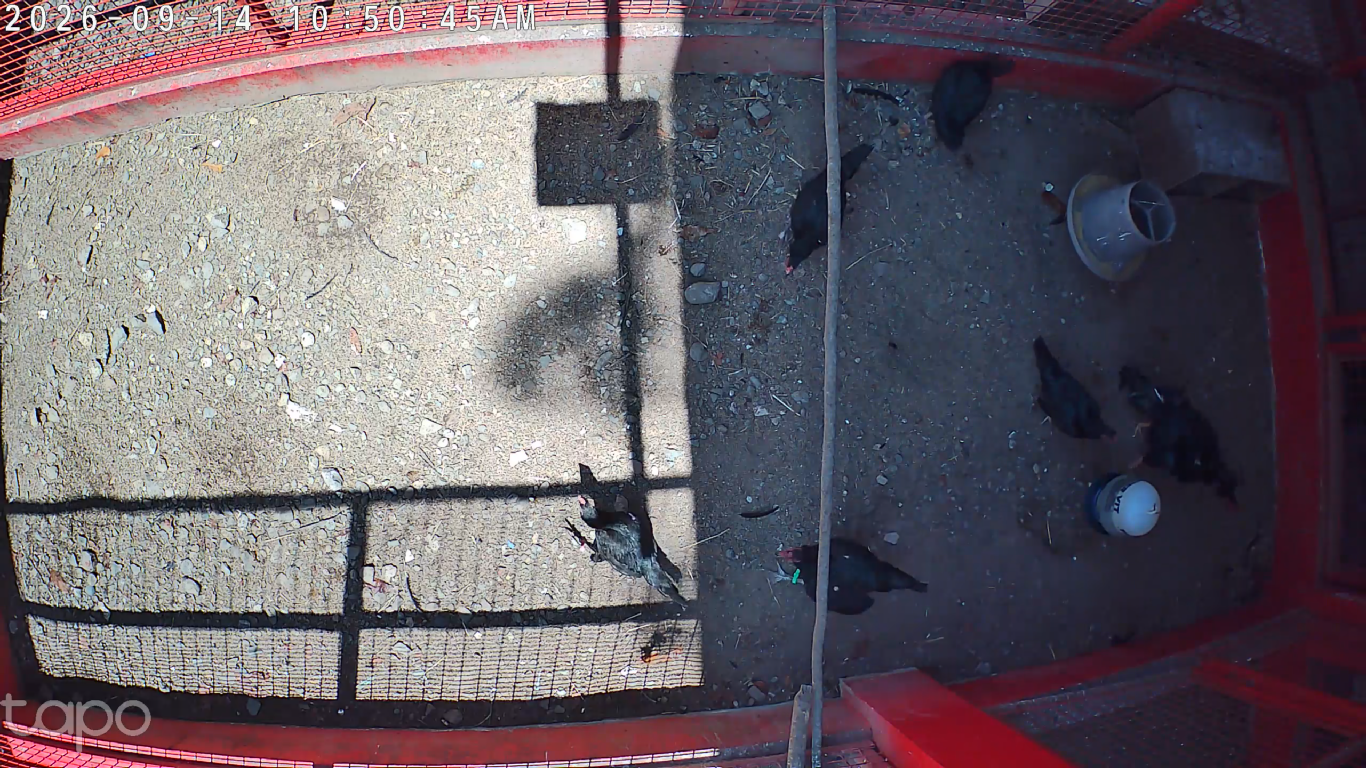Chicken: (767, 522, 932, 619), (561, 492, 696, 608), (783, 145, 876, 277), (1023, 334, 1120, 449), (911, 51, 1019, 153)
